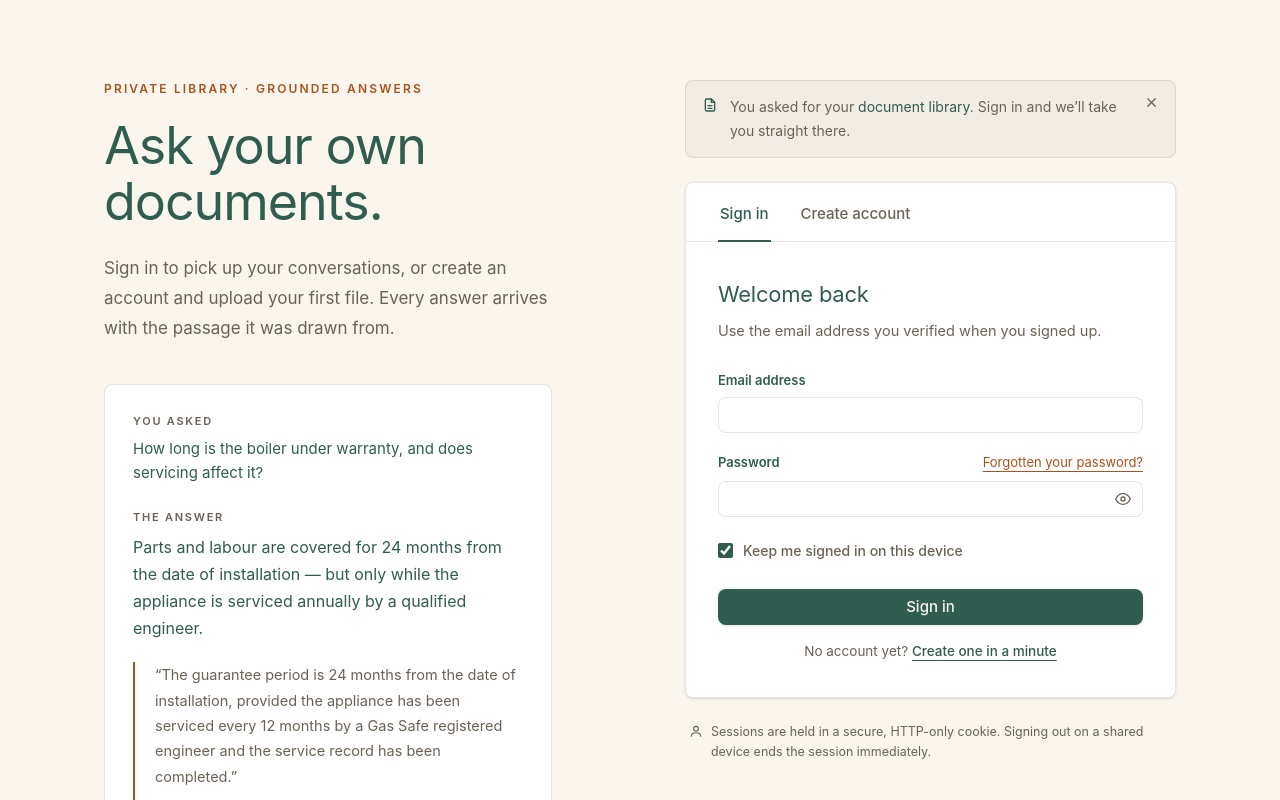
Test: Signin - sign in tab › renders a generic incorrect-credentials message on a 401 with no field-level hint
Type "ellen@example.com" into the field labelled "Email address". click: (930,415)
box: top-left (718, 397), bottom-right (1143, 433)
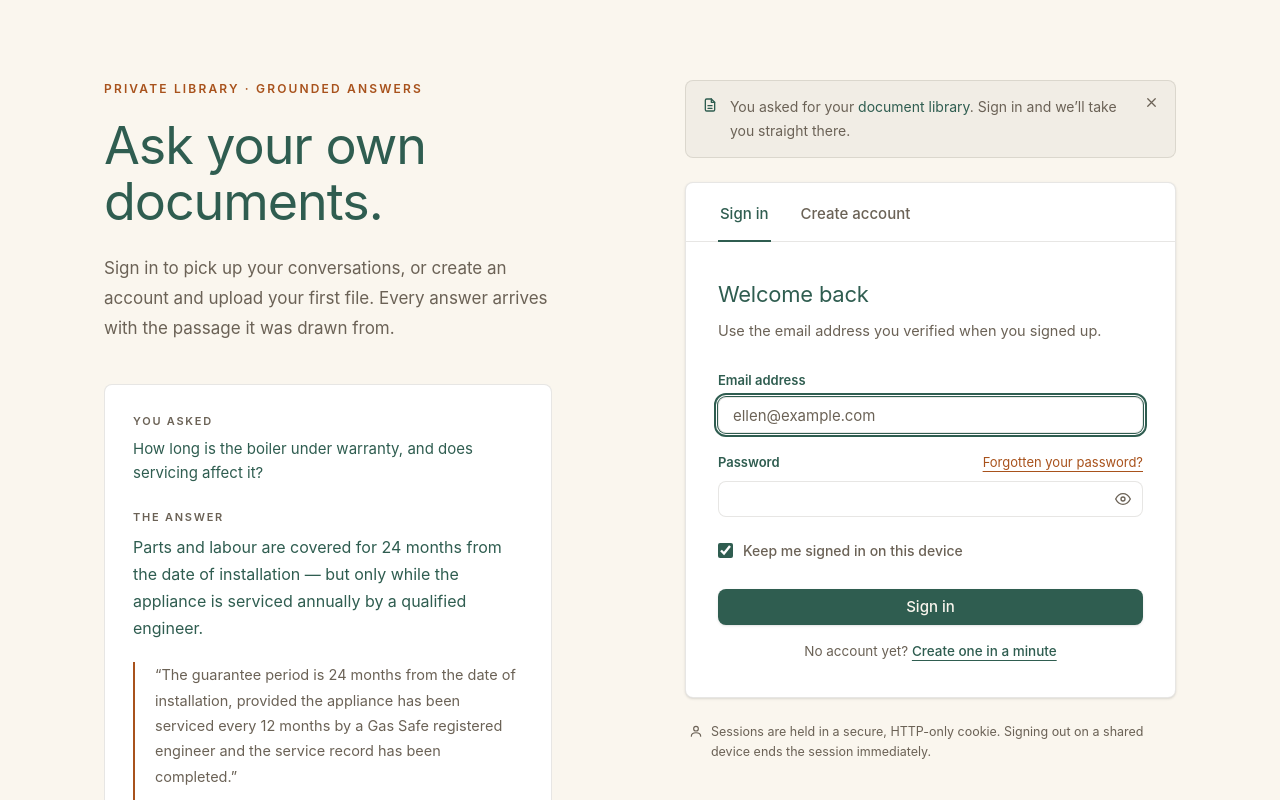
Type "wrong-password" into the password field labelled "Password". click: (930,499)
box: top-left (718, 481), bottom-right (1143, 517)
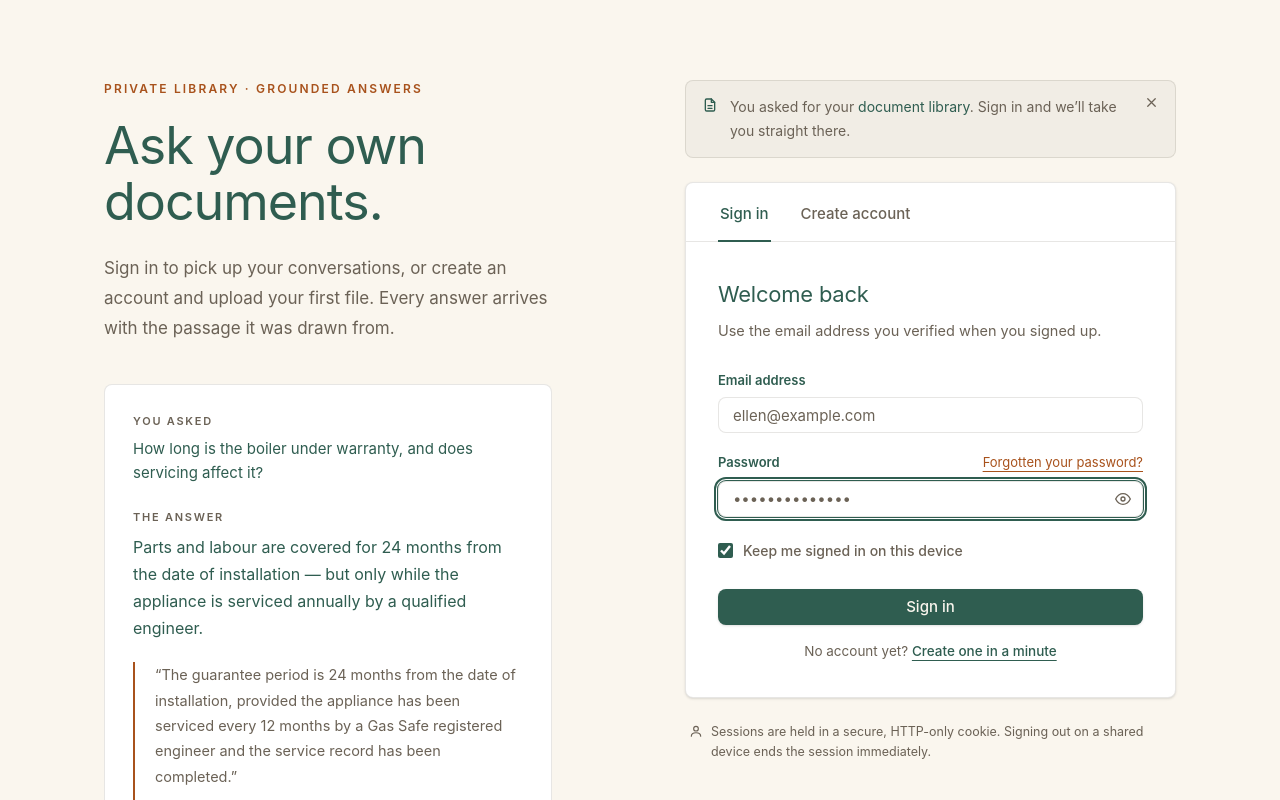
Click the button "Sign in". click: (930,607)
box: top-left (718, 589), bottom-right (1143, 625)
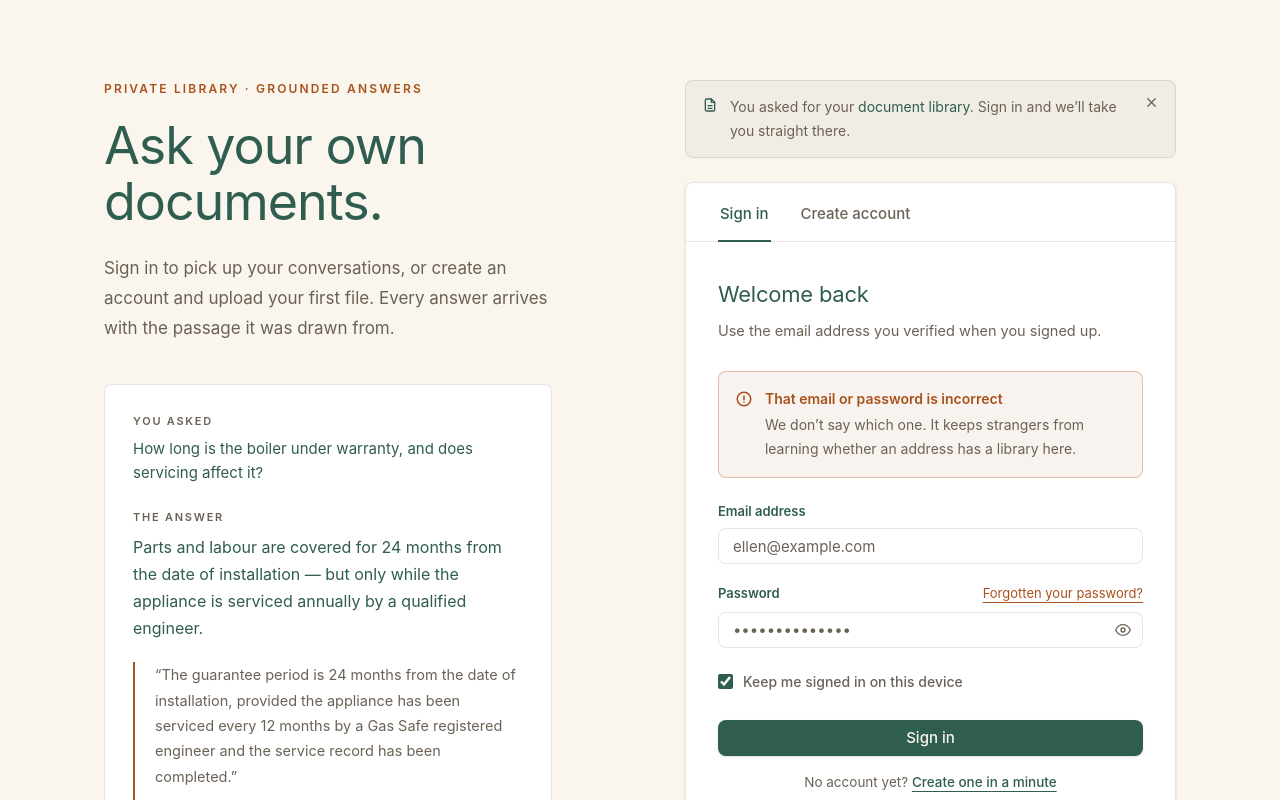
Now the text "That email or password is incorrect" is shown, box top-left (765, 390), bottom-right (1003, 406)
